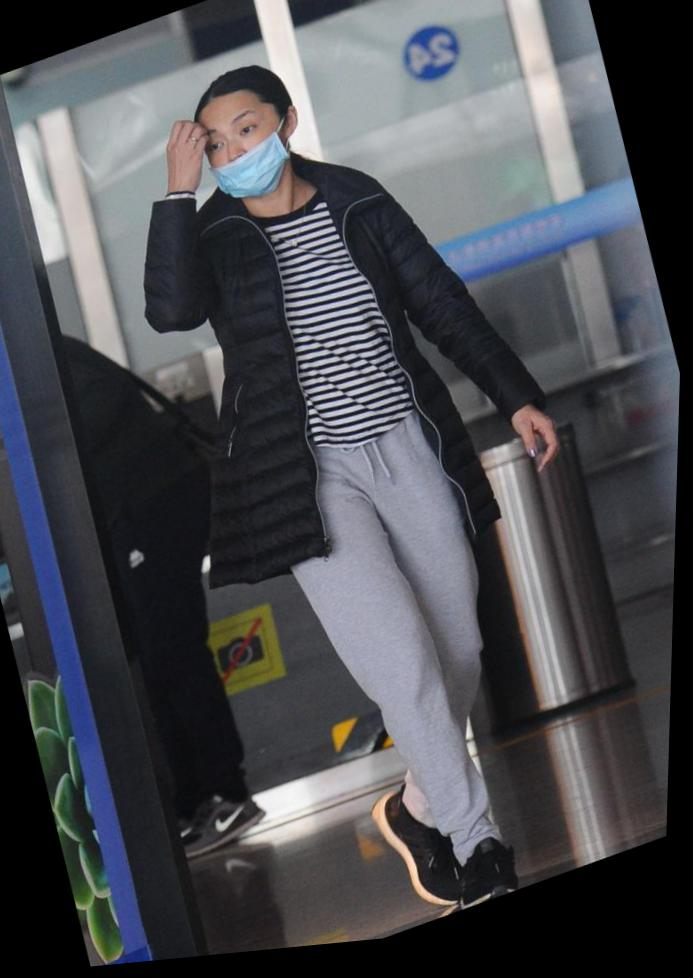WRONG: (197, 98, 293, 217)
